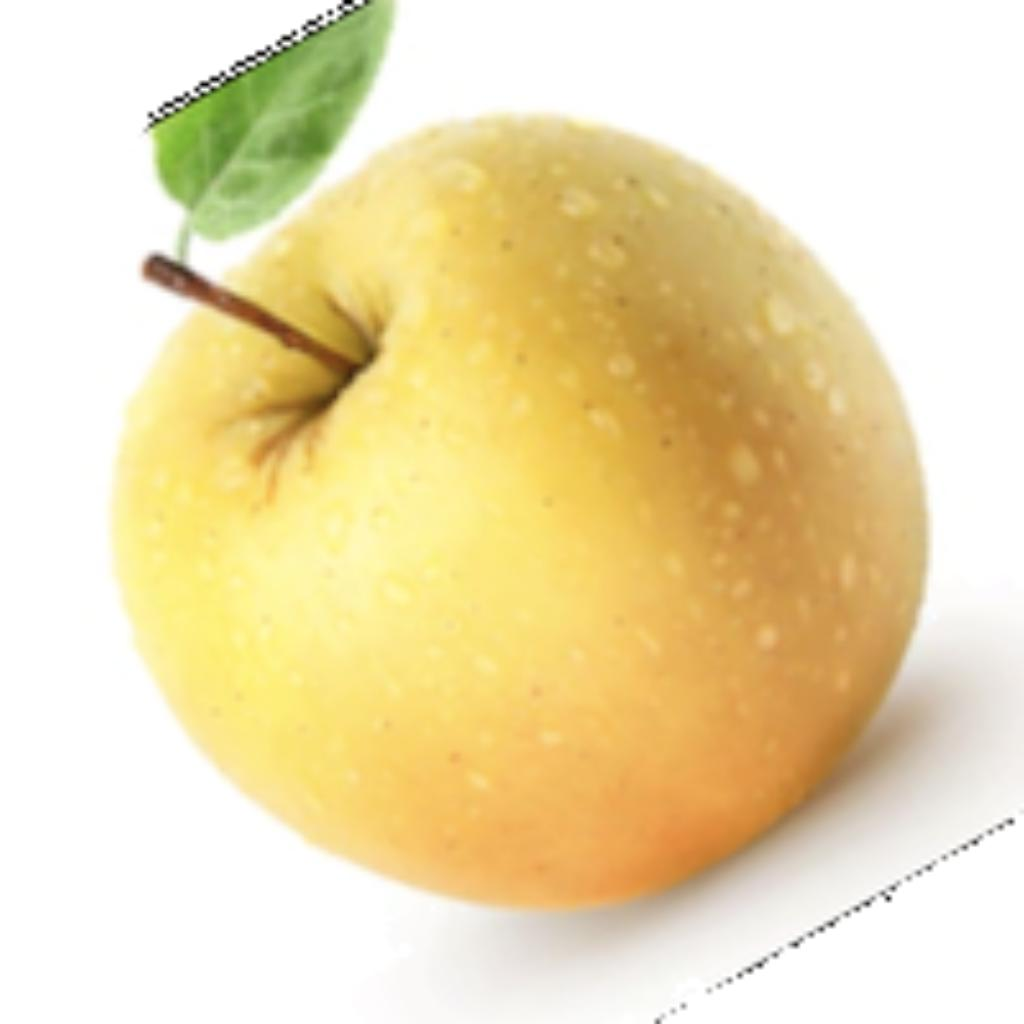apple: (102, 0, 1019, 993)
